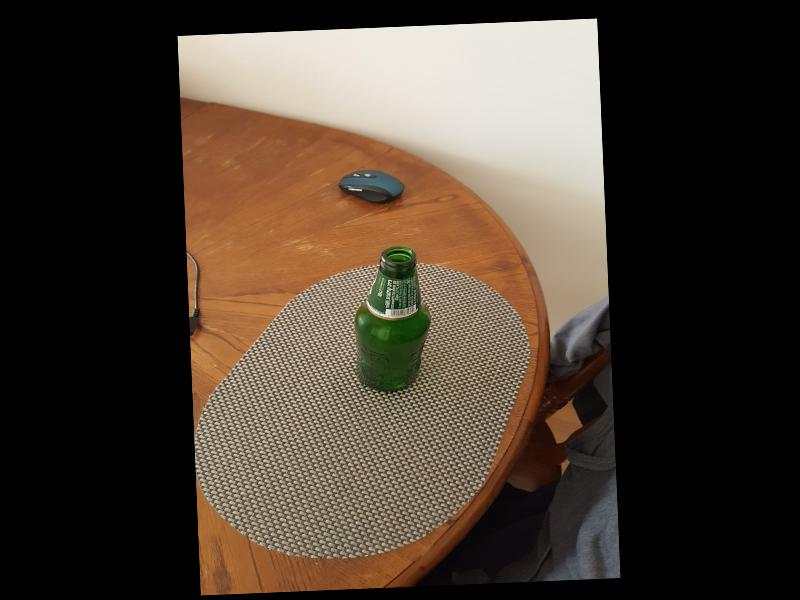Beer: (348, 244, 436, 393)
